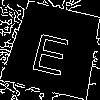E: (28, 23, 75, 76)
